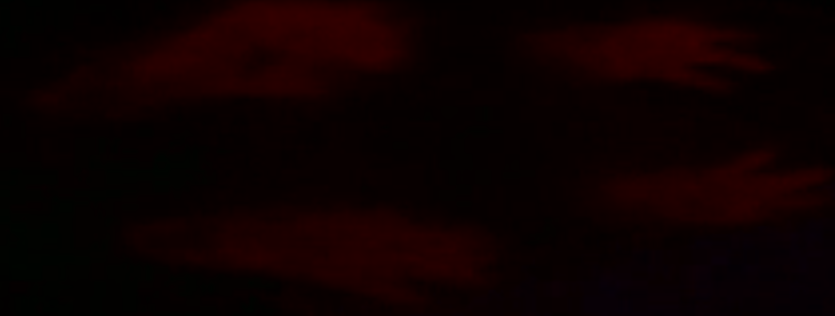paw: (129, 198, 531, 298), (84, 8, 415, 112), (571, 119, 828, 246), (528, 14, 768, 91)
